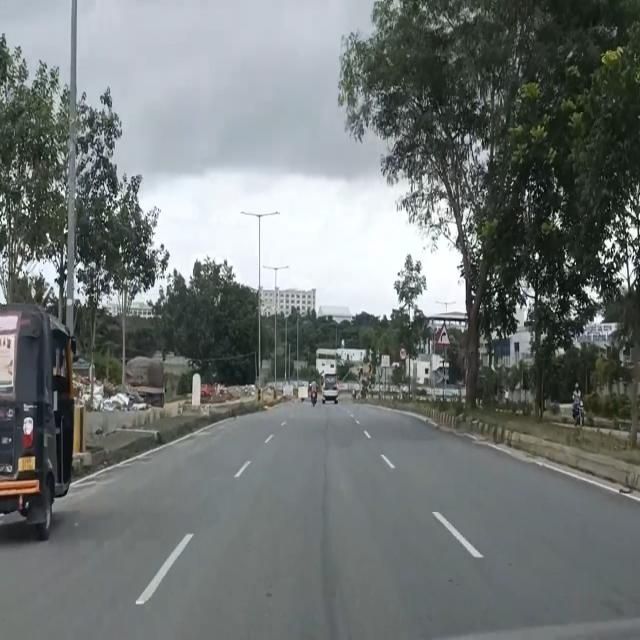bien_nguy_hiem: (436, 321, 451, 346)
